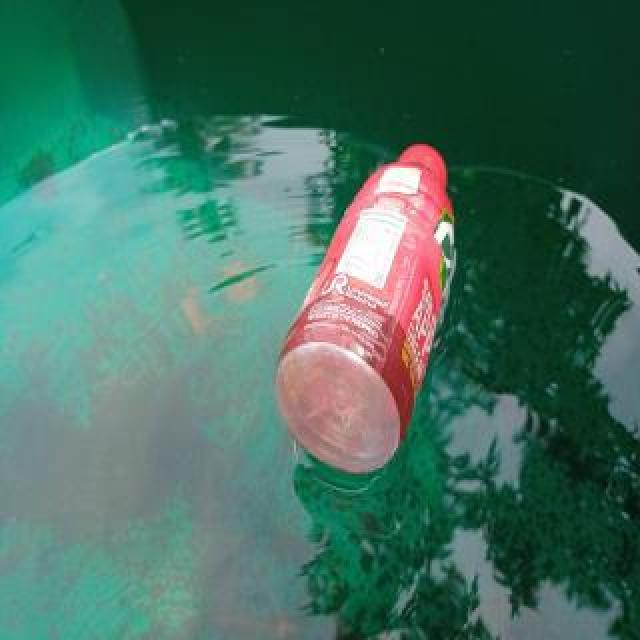bottle: (271, 137, 461, 477)
